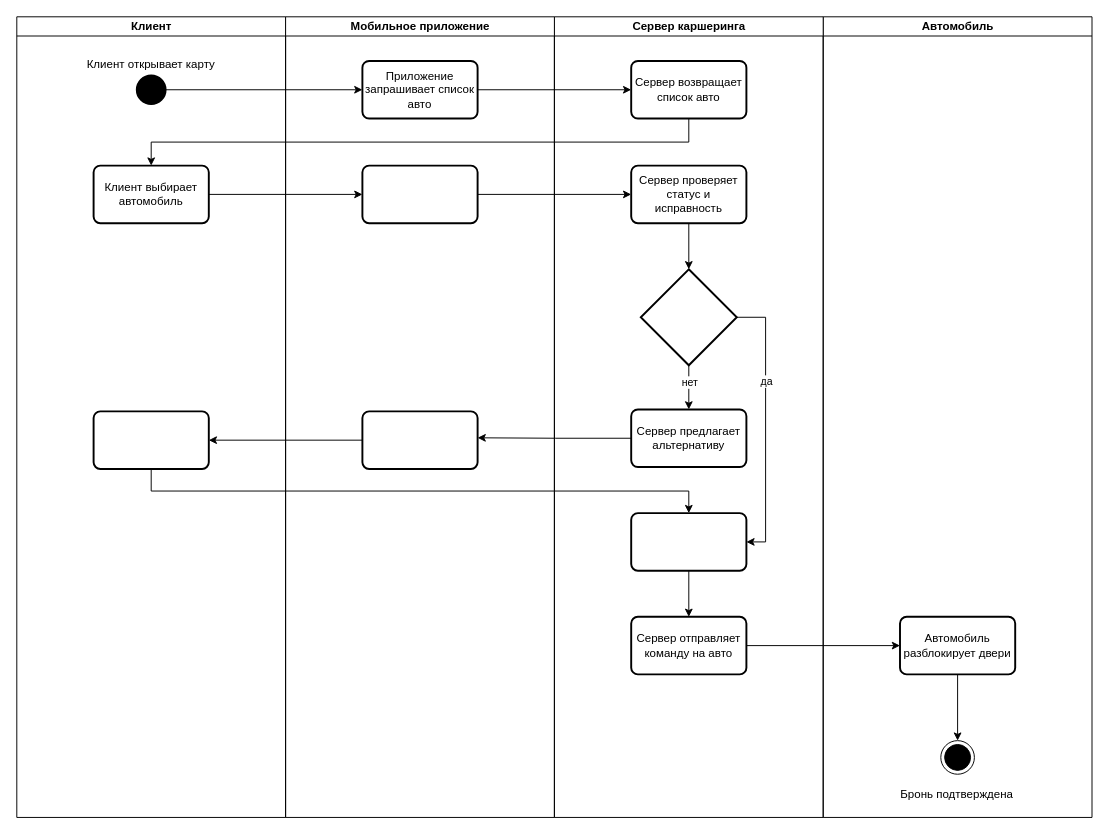
Some shapes in this 1109 by 834 pixel diagram are drawn without their labels. The centre of each missing label's shape, as x and y in pixels:
Автомобиль доступен?: the point at 688,317
Клиент выбирает другой автомобиль: the point at 150,439
Приложение отправляет запрос на проверку: the point at 419,194
Приложение показывает альтернативу клиенту: the point at 419,439
Сервер бронирует авто на 15 минут: the point at 688,541
